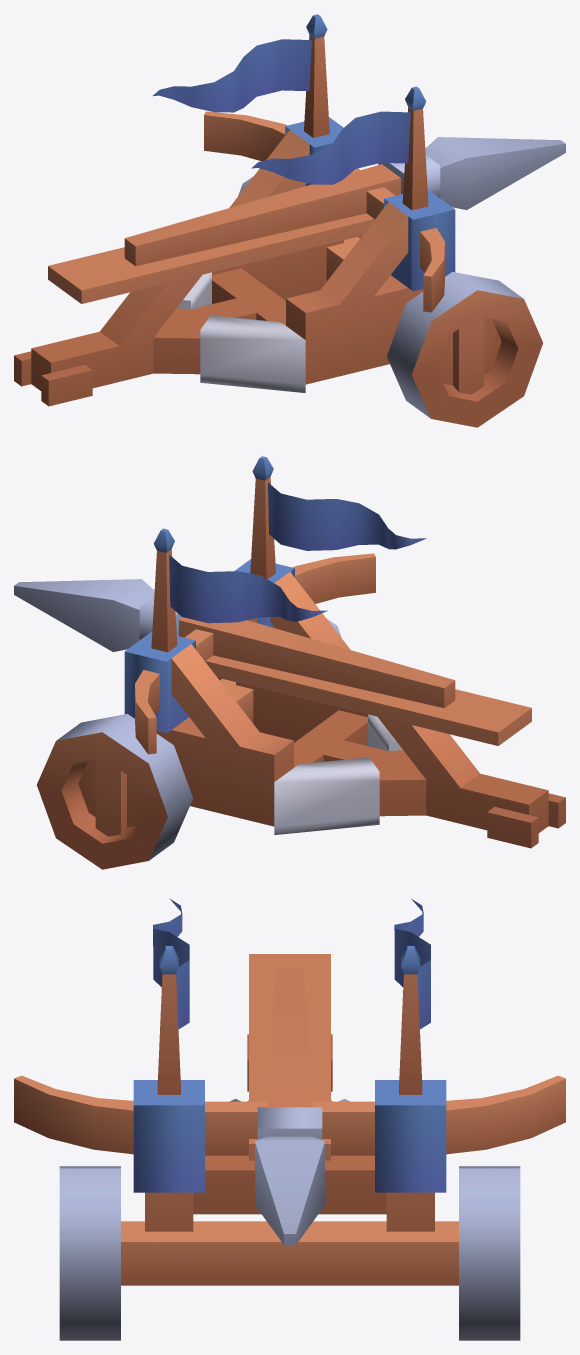
File: siege-ballista.glb
The picture shows the model from 3 angles, top to bottom: view 1: azimuth 30°, elevation 25°; view 2: azimuth 150°, elevation 25°; view 3: azimuth 270°, elevation 25°; orthographic projection. The views are drawn at different scales.
Visible parts, largest first — view 1: siege-ballista, wheel, arrow; view 2: siege-ballista, wheel, arrow; view 3: siege-ballista, wheel (×2), arrow.
Part boxes in pixels (x1,y1,x2,y2): siege-ballista: (14,14,455,406); wheel: (387,272,542,427); arrow: (124,137,565,266); siege-ballista: (124,456,565,848); wheel: (37,714,192,869); arrow: (14,579,455,708); siege-ballista: (14,898,565,1285); wheel (×2): (59,1166,520,1340); arrow: (255,968,324,1244).
Size of the model in its own units: 1.63 by 0.9103 by 1.2.
1 material, 1 textured.
